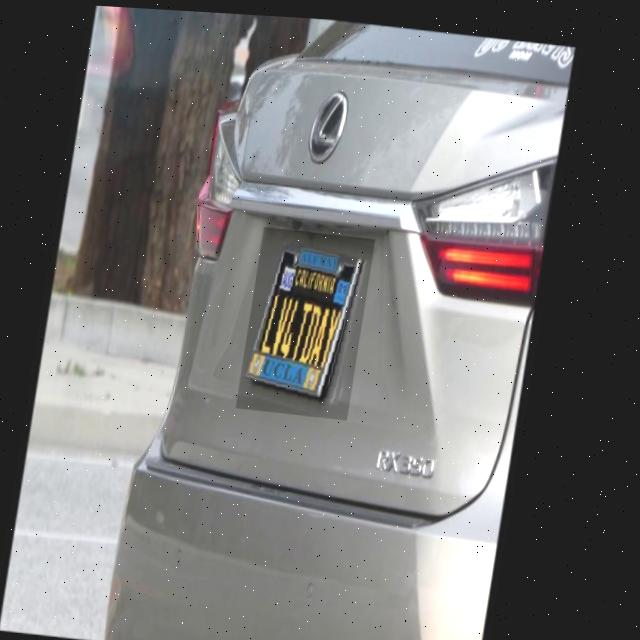LicensePlate: (244, 223, 380, 417)
